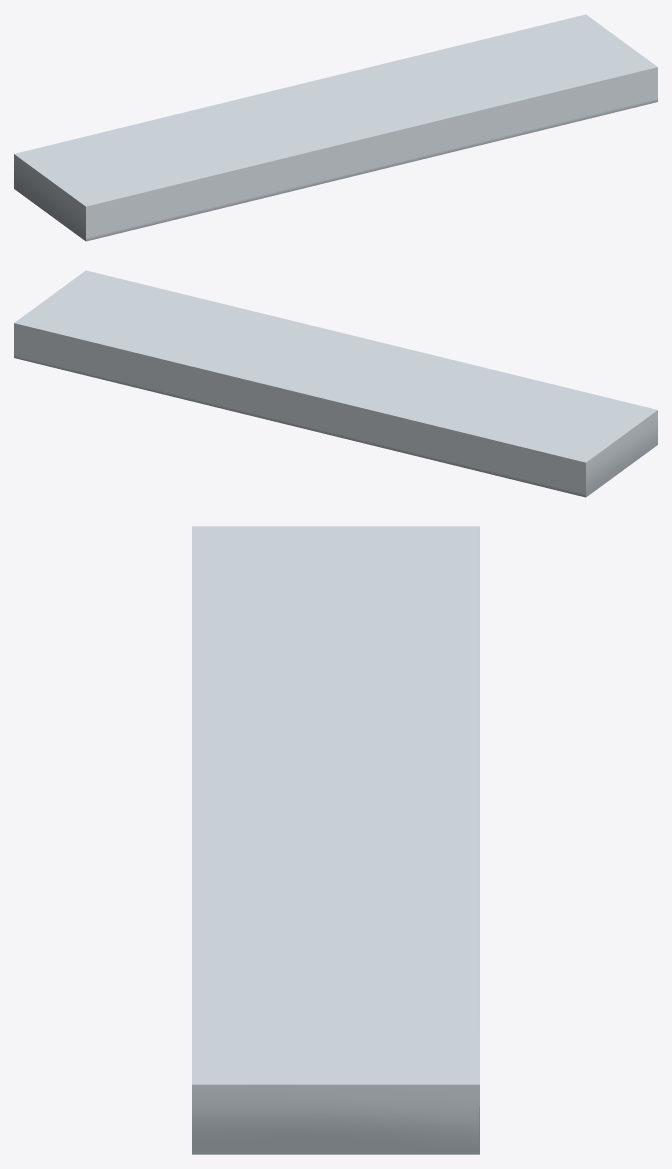
File: Raster_lamp01.fbx
The picture shows the model from 3 angles, top to bottom: view 1: azimuth 30°, elevation 25°; view 2: azimuth 150°, elevation 25°; view 3: azimuth 270°, elevation 25°; orthographic projection. The views are drawn at different scales.
Visible parts, largest first — view 1: Raster_lamp01; view 2: Raster_lamp01; view 3: Raster_lamp01.
Part boxes in pixels (<box>): Raster_lamp01: <box>14,14,657,241</box>; Raster_lamp01: <box>14,270,657,497</box>; Raster_lamp01: <box>192,526,479,1154</box>.
Bounding box in the file's own units: 2.01 × 0.117 × 0.4374.
2 materials, 1 textured.
